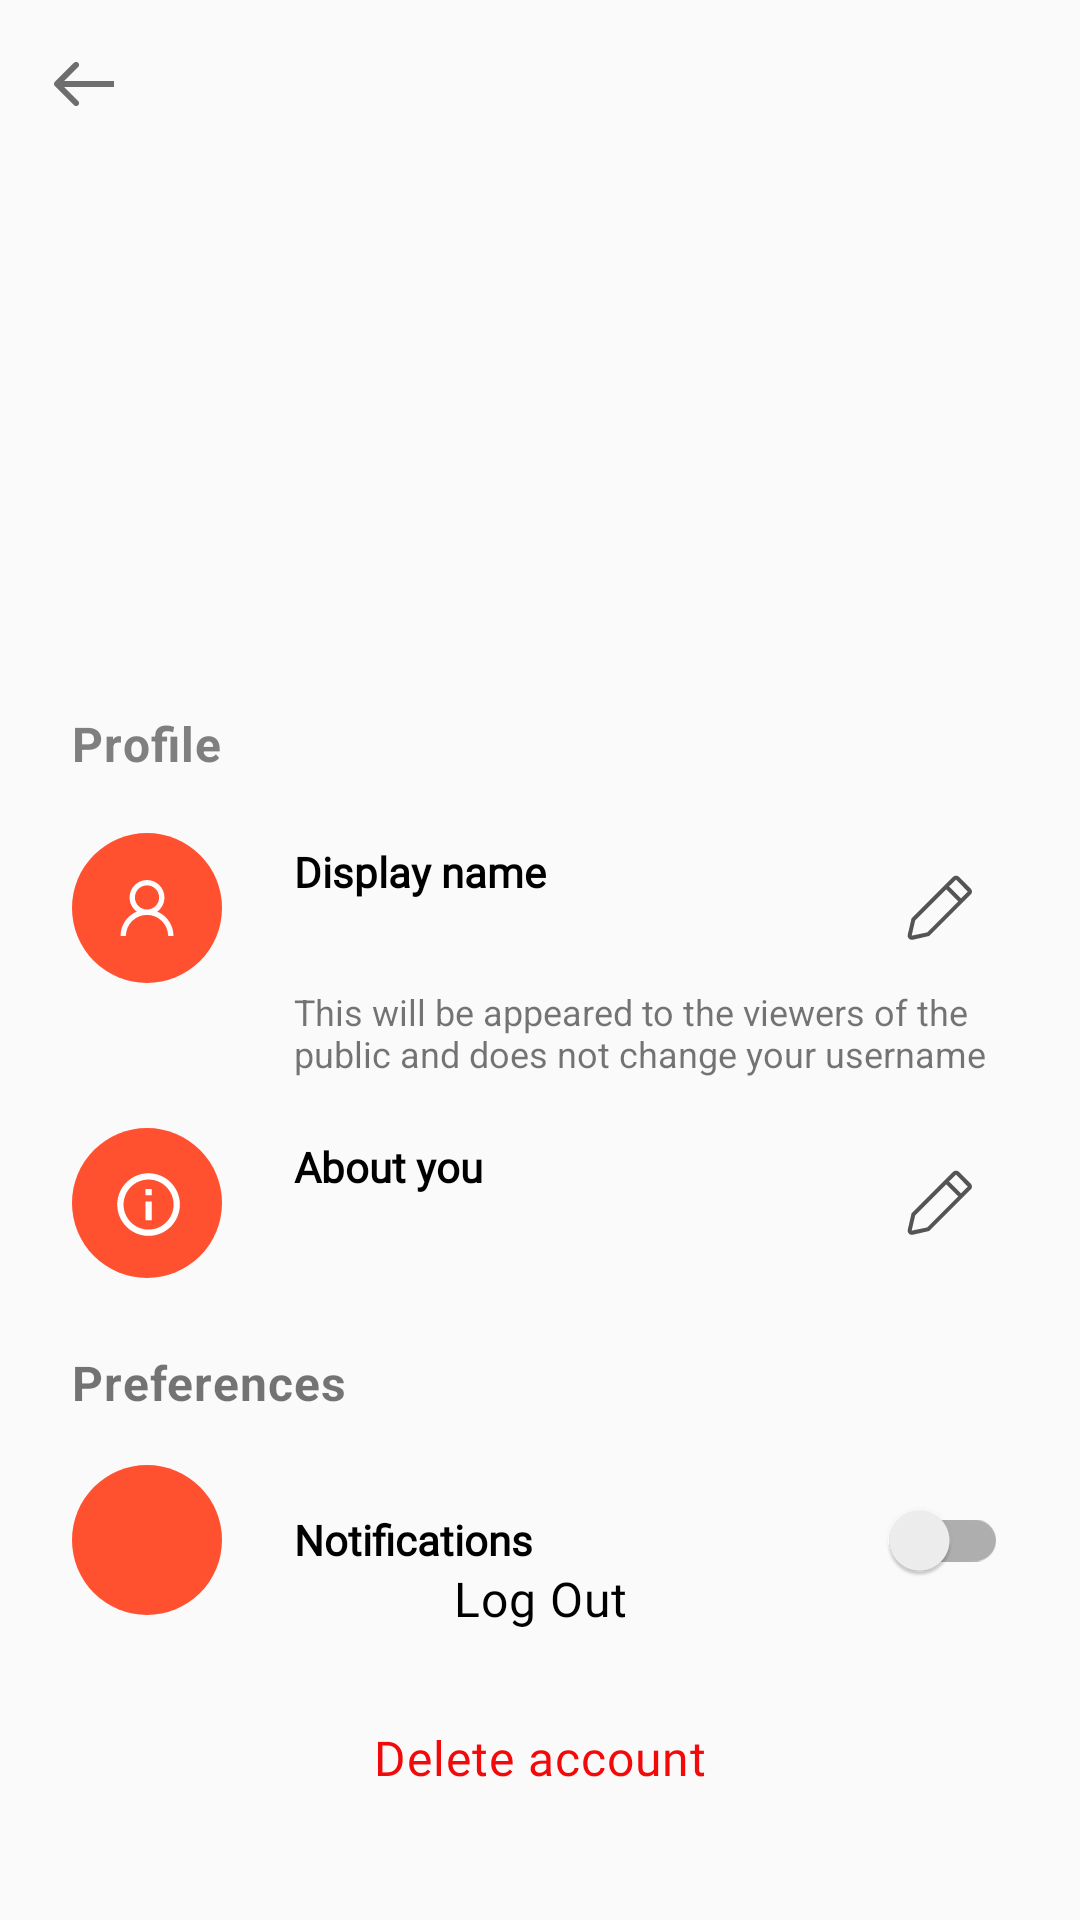

Icons on this 1080*1920 Android screen, each with the point to tap as point (x, y):
info: point (147, 1203)
